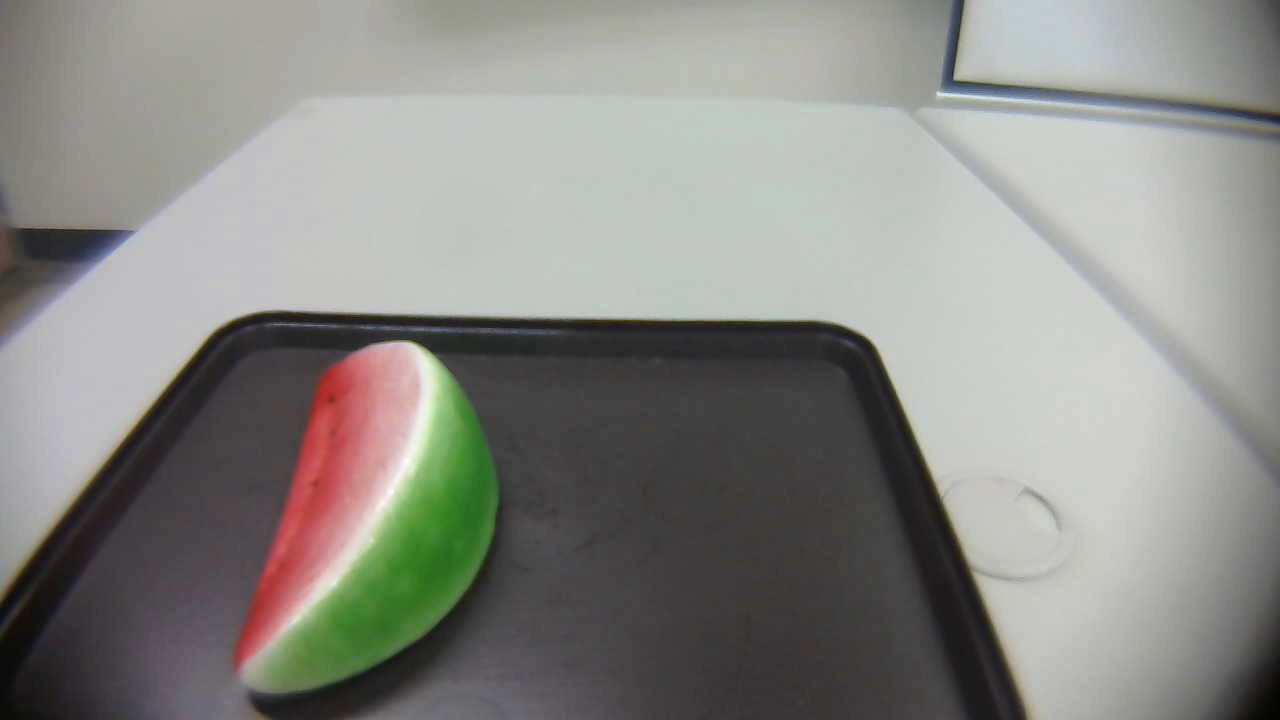water melon: (220, 334, 509, 706)
